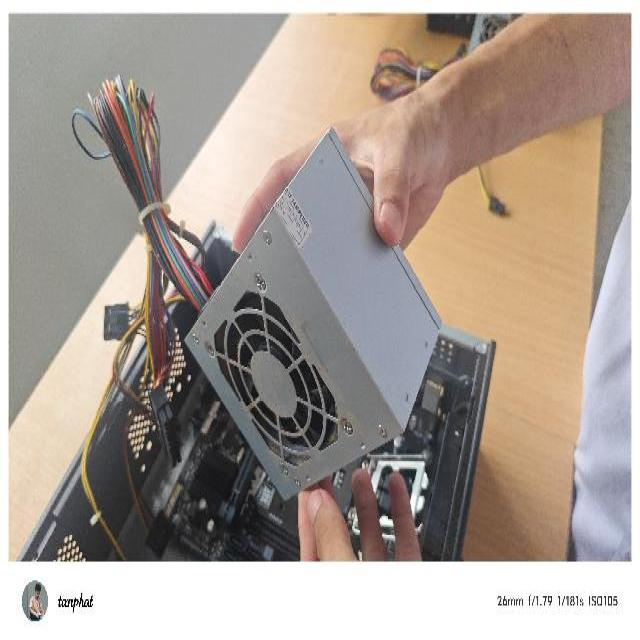PSU: (178, 124, 444, 507)
